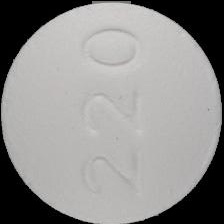54868-6133: (0, 0, 224, 224)
